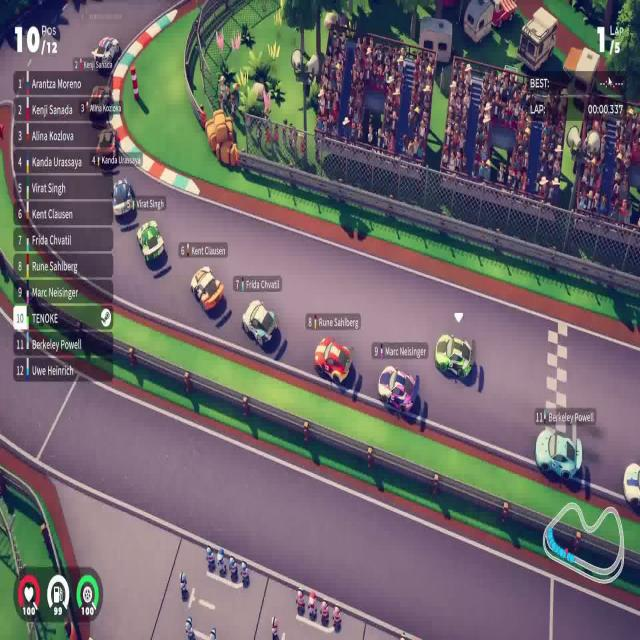car: (534, 426, 583, 482), (377, 364, 418, 415), (314, 336, 352, 386), (434, 332, 473, 380), (242, 298, 278, 348), (190, 265, 224, 313), (136, 218, 165, 266), (91, 126, 120, 172), (90, 35, 121, 75), (110, 176, 137, 220), (86, 84, 114, 119)
